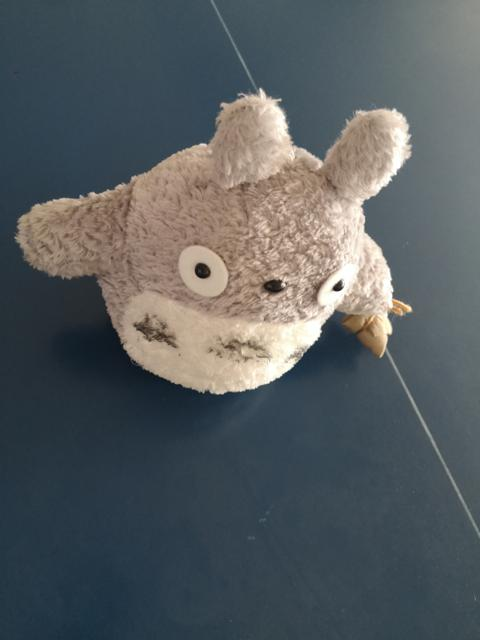totoro: (13, 87, 414, 399)
